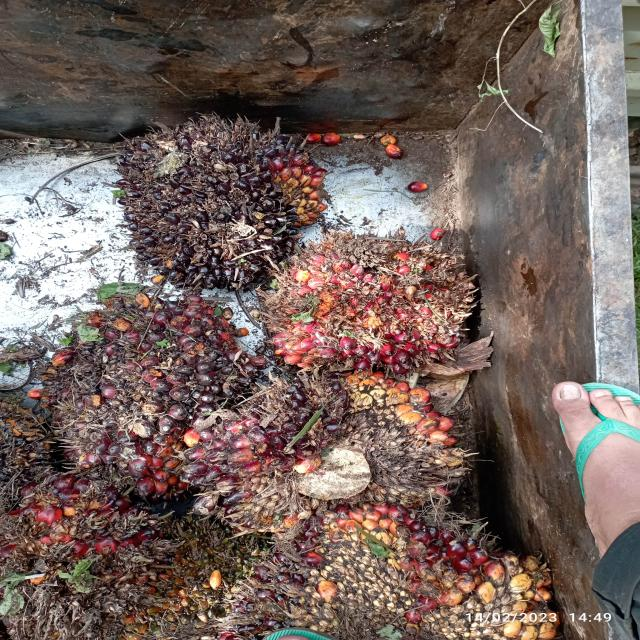fraksi 00: (100, 113, 344, 290)
fraksi 1: (17, 272, 255, 503)
fraksi 3: (260, 212, 475, 387)
